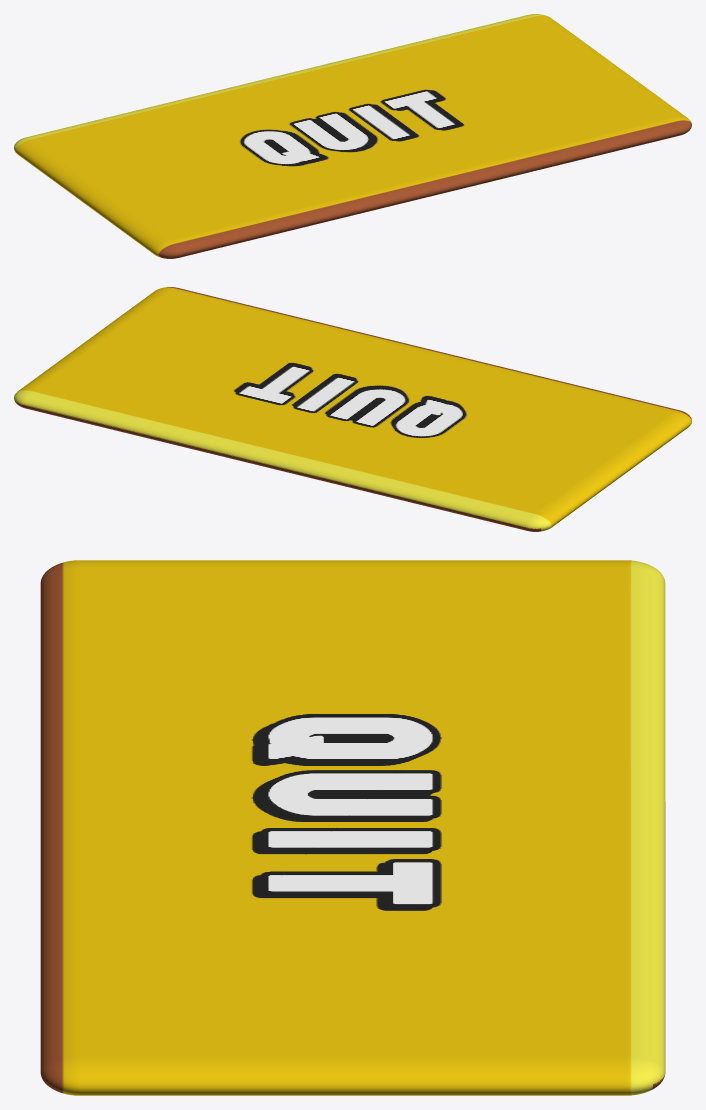
The model's file is button_quit.dae.
3 views of the same model, one above another, from view 1: azimuth 30°, elevation 25°; view 2: azimuth 150°, elevation 25°; view 3: azimuth 270°, elevation 25° (orthographic). The views are drawn at different scales.
Parts seen in each view (by area): view 1: Plane; view 2: Plane; view 3: Plane.
Part boxes in pixels (bbox=[...]): Plane: bbox=[14, 14, 691, 258]; Plane: bbox=[14, 287, 691, 531]; Plane: bbox=[40, 560, 665, 1095].
Bounding box in the file's own units: 7.9 × 3.98 × 0.2189.
1 material, 1 textured.
